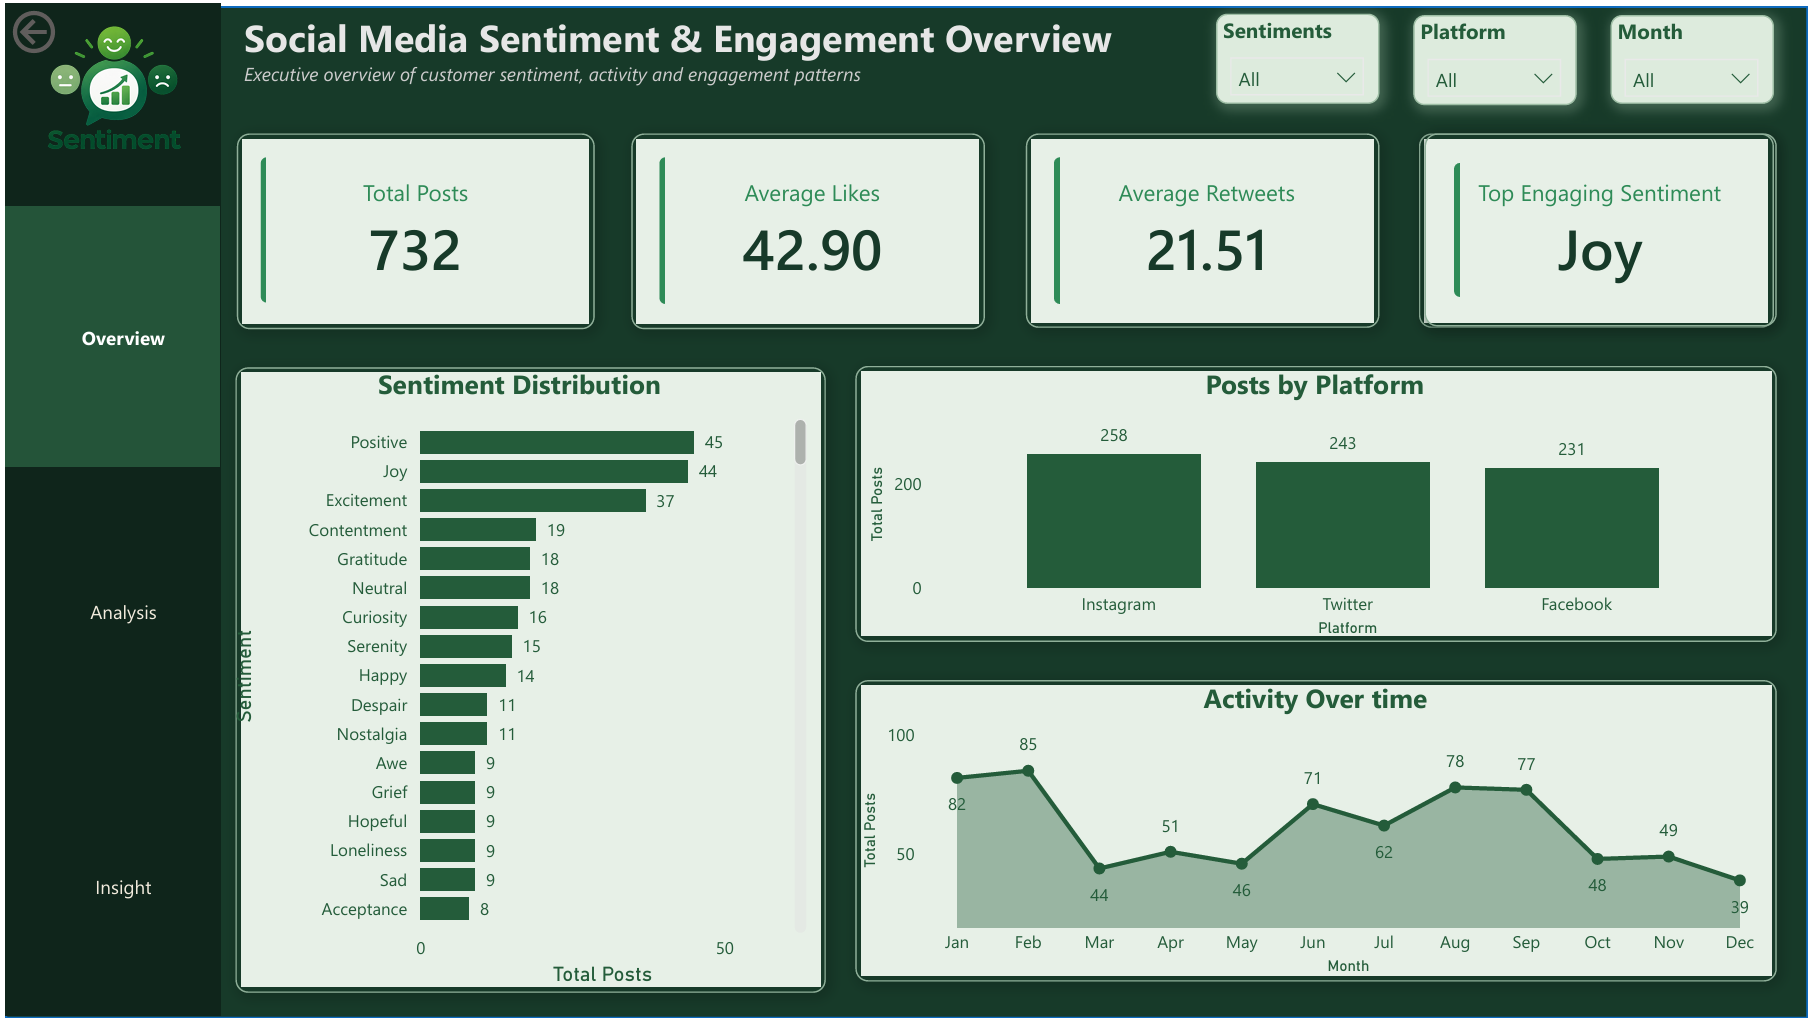

What the dashboard file says about the page in this screenshot:
{"tool":"powerbi","page":{"name":" Overview","canvas":[1280,720],"ordinal":0},"visuals":[{"type":"shape","box":[0,1.6,1279,718.4],"z":0},{"type":"shape","box":[0,0,152.9,719.2],"z":1000},{"type":"shape","box":[1003.3,91.7,251.8,138.2],"z":2000},{"type":"shape","box":[163,258.1,418.9,443.8],"z":3000},{"type":"shape","box":[602.7,480,654.1,213.5],"z":4000},{"type":"shape","box":[602.7,257.4,654.1,195.3],"z":5000},{"type":"textbox","box":[163.5,0,1116,74.2],"z":6000},{"type":"cardVisual","fields":{"Data":["3) Sentiment dataset.Top Engaging Sentiment"]},"box":[1007.4,91.6,249.5,137.4],"z":7000},{"type":"clusteredBarChart","title":"Sentiment Distribution","fields":{"Category":["3) Sentiment dataset.Sentiment"],"Y":["3) Sentiment dataset.Total Posts"]},"box":[156.2,257,416.6,443.8],"z":8000},{"type":"clusteredColumnChart","title":"Posts by Platform","fields":{"Category":["3) Sentiment dataset.Platform"],"Y":["3) Sentiment dataset.Total Posts"]},"box":[607.9,257,641.9,195.8],"z":9000},{"type":"actionButton","box":[0,0,100,40],"z":10000},{"type":"lineChart","title":"Activity Over time","fields":{"Category":["3) Sentiment dataset.Year","3) Sentiment dataset.Month"],"Y":["3) Sentiment dataset.Total Posts"]},"box":[603,480.3,653.3,213],"z":11000},{"type":"slicer","title":"Month","fields":{"Values":["3) Sentiment dataset.Month"]},"box":[1138.7,7.8,116.6,63.6],"z":12000},{"type":"slicer","title":"Platform","fields":{"Values":["3) Sentiment dataset.Platform"]},"box":[998.7,7.6,116.6,64.1],"z":13000},{"type":"slicer","title":"Sentiments","fields":{"Values":["3) Sentiment dataset.Sentiment"]},"box":[858.7,7.3,116.6,64.1],"z":14000},{"type":"pageNavigator","box":[0,143.8,152.8,575.1],"z":15000},{"type":"shape","box":[443.7,91.6,251.1,138.9],"z":16000},{"type":"shape","box":[723.5,91.7,251.8,138.2],"z":17000},{"type":"shape","box":[164.2,91.6,254.2,138.9],"z":18000},{"type":"cardVisual","fields":{"Data":["3) Sentiment dataset.Average Likes"]},"box":[447.4,91.6,251.1,138.9],"z":19000},{"type":"cardVisual","fields":{"Data":["3) Sentiment dataset.Average Retweets"]},"box":[727.4,91.6,251.1,138.9],"z":20000},{"type":"cardVisual","fields":{"Data":["3) Sentiment dataset.Total Posts"]},"box":[164.2,91.6,254.2,137.4],"z":21000},{"type":"image","box":[0,1.5,153.1,129.7],"z":22000}]}

Visuals, with their boxes in screenshot pixels (x1, y1, x2, y2), scaled from the page's 1280x720 canvas onto the 1810x1018 screenshot:
shape: (left=0, top=2, right=1809, bottom=1017)
shape: (left=0, top=0, right=216, bottom=1017)
shape: (left=1419, top=130, right=1775, bottom=325)
shape: (left=230, top=365, right=823, bottom=992)
shape: (left=852, top=679, right=1777, bottom=981)
shape: (left=852, top=364, right=1777, bottom=640)
textbox: (left=231, top=0, right=1809, bottom=105)
cardVisual - 3) Sentiment dataset.Top Engaging Sentiment: (left=1425, top=130, right=1777, bottom=324)
"Sentiment Distribution" clusteredBarChart: (left=221, top=363, right=810, bottom=991)
"Posts by Platform" clusteredColumnChart: (left=860, top=363, right=1767, bottom=640)
actionButton: (left=0, top=0, right=141, bottom=57)
"Activity Over time" lineChart: (left=853, top=679, right=1776, bottom=980)
"Month" slicer: (left=1610, top=11, right=1775, bottom=101)
"Platform" slicer: (left=1412, top=11, right=1577, bottom=101)
"Sentiments" slicer: (left=1214, top=10, right=1379, bottom=101)
pageNavigator: (left=0, top=203, right=216, bottom=1016)
shape: (left=627, top=130, right=982, bottom=326)
shape: (left=1023, top=130, right=1379, bottom=325)
shape: (left=232, top=130, right=592, bottom=326)
cardVisual - 3) Sentiment dataset.Average Likes: (left=633, top=130, right=988, bottom=326)
cardVisual - 3) Sentiment dataset.Average Retweets: (left=1029, top=130, right=1384, bottom=326)
cardVisual - 3) Sentiment dataset.Total Posts: (left=232, top=130, right=592, bottom=324)
image: (left=0, top=2, right=216, bottom=186)
